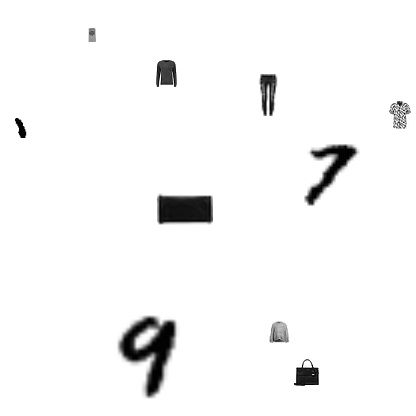1: (7, 114, 35, 142)
7: (287, 124, 371, 208)
9: (91, 293, 203, 405)
Bag: (157, 180, 213, 236), (292, 358, 320, 386)
Pullover: (152, 59, 180, 87), (268, 321, 290, 343)
Shirt: (386, 101, 414, 129)
T-shirt/top: (85, 28, 99, 42)
Trouser: (247, 74, 289, 116)
